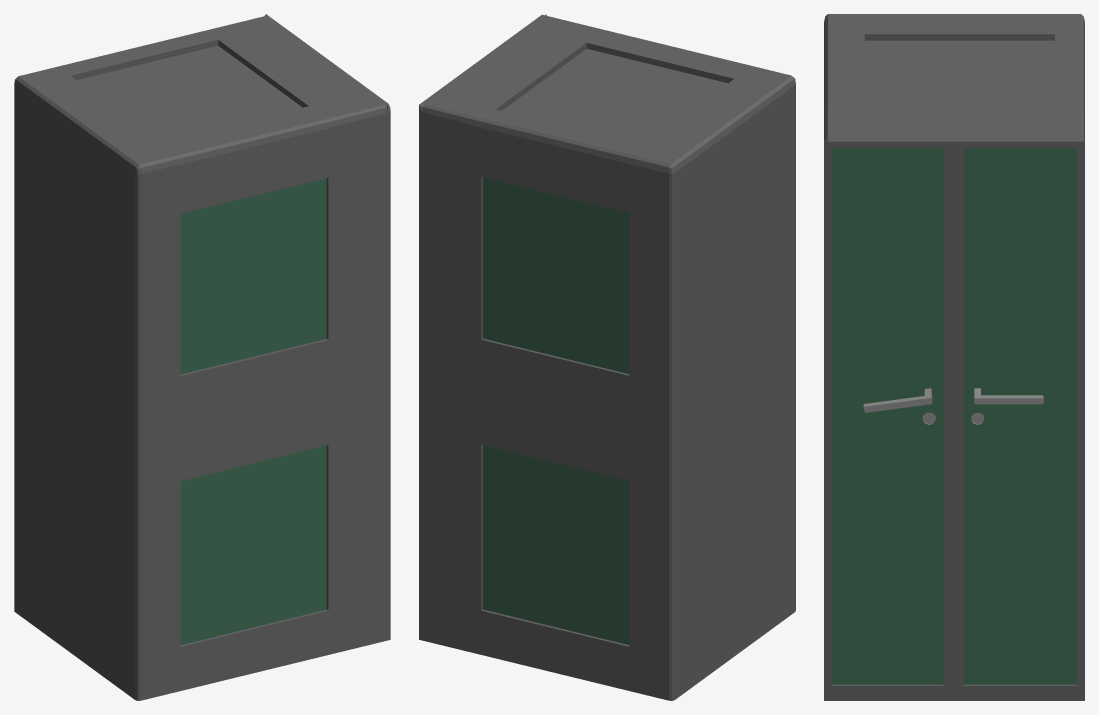
File: prop-lockers.fbx
3 renders of one model, left to right at view 1: azimuth 30°, elevation 25°; view 2: azimuth 150°, elevation 25°; view 3: azimuth 270°, elevation 25°, orthographic. The views are drawn at different scales.
Visible parts, largest first — view 1: prop-locker; view 2: prop-locker; view 3: prop-locker.
Part boxes in pixels (x1,y1,x2,y2): prop-locker: (14, 14, 390, 700); prop-locker: (419, 14, 795, 700); prop-locker: (824, 14, 1084, 700).
Bounding box in the file's own units: 95.04 × 180 × 76.08.
